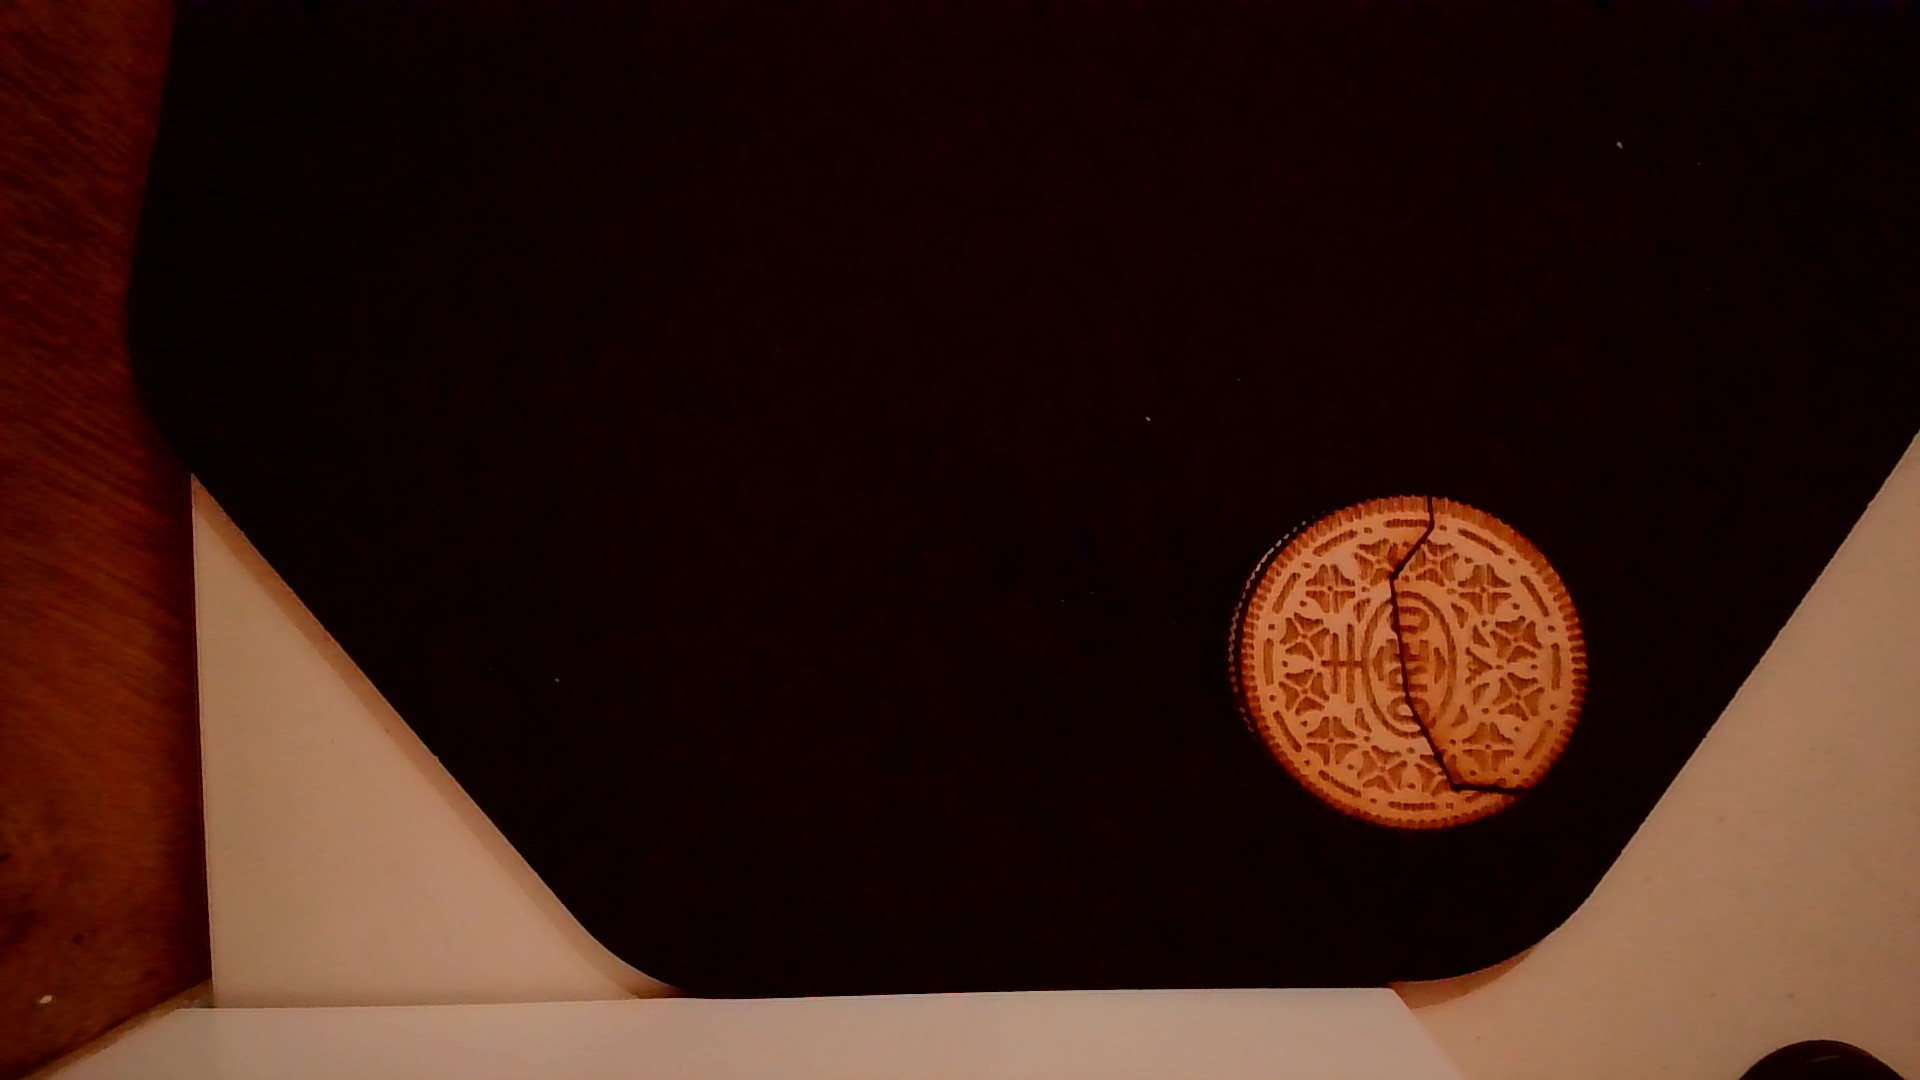Fissure: (1378, 479, 1538, 806)
Oréo: (1224, 481, 1594, 841)
